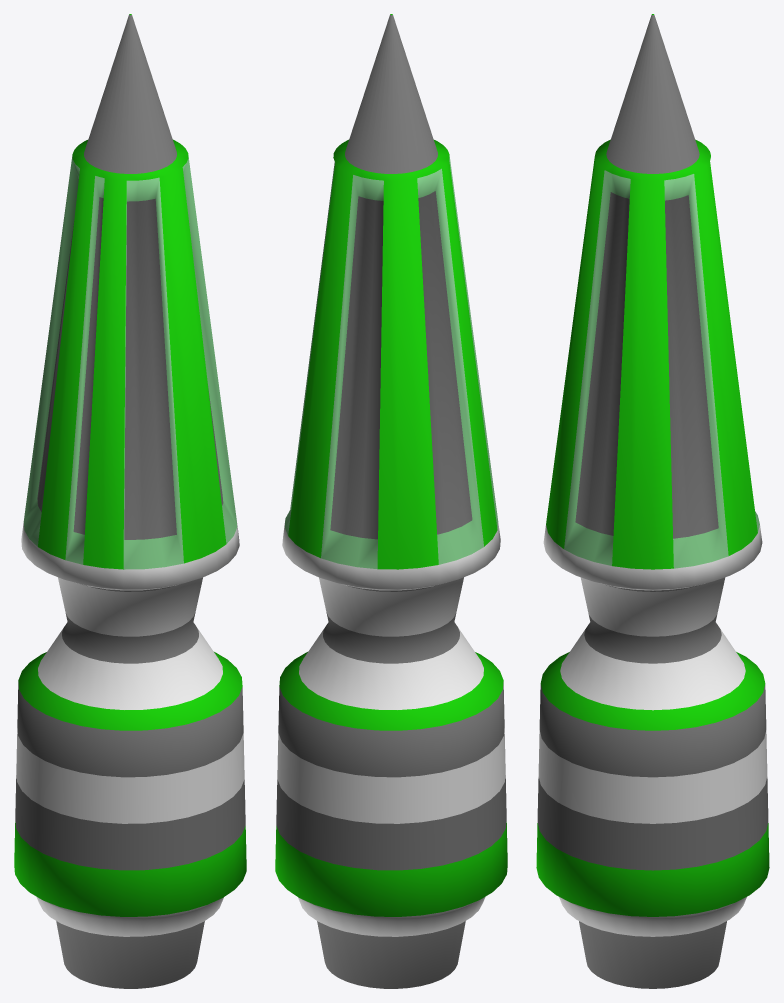
The model's file is AlienProjectile.fbx.
The picture shows the model from 3 angles, left to right: view 1: azimuth 30°, elevation 25°; view 2: azimuth 150°, elevation 25°; view 3: azimuth 270°, elevation 25°; orthographic projection.
Visible parts, largest first — view 1: Sphere; view 2: Sphere; view 3: Sphere.
Part boxes in pixels (x1,y1,x2,y2): Sphere: (14,14,246,988); Sphere: (275,14,507,988); Sphere: (536,14,769,988).
Bounding box in the file's own units: 67.19 × 301 × 67.19.
